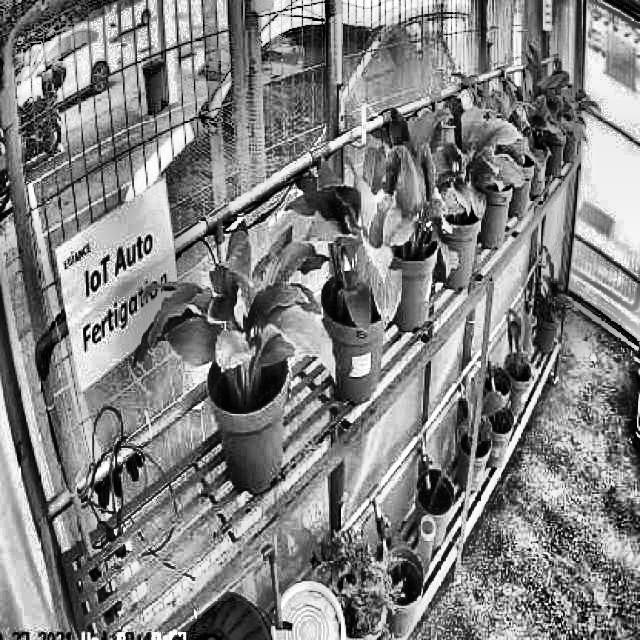plants: (133, 210, 338, 398), (288, 150, 402, 342), (357, 116, 460, 282), (402, 106, 526, 240)
